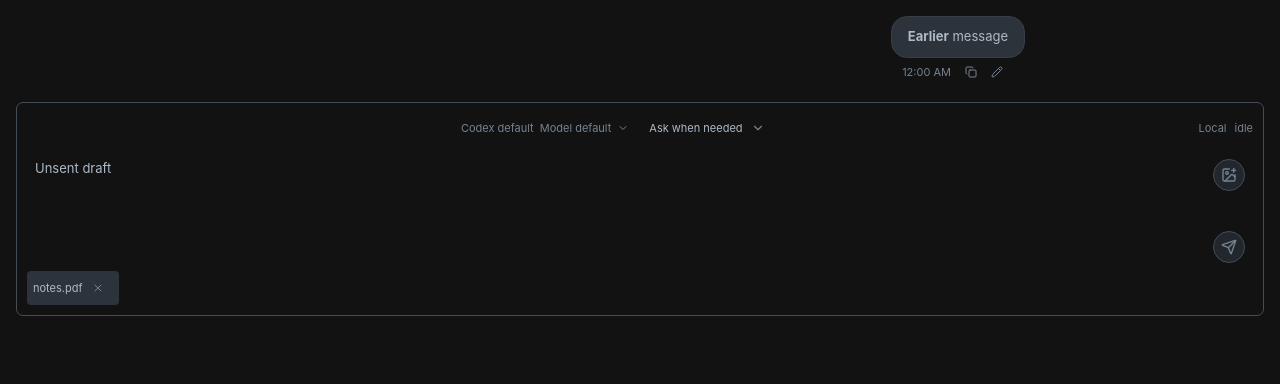
Scenario: preserves the visible message and attachments if sending fails
Click the button named "Send": (1229, 246) [1213,230,1245,262]
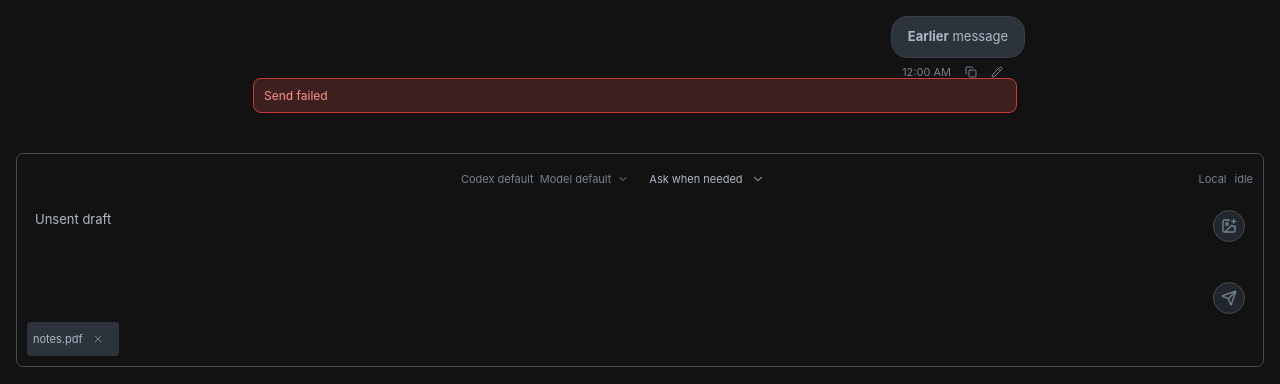
Expected: the field labelled "Unsent draft" is shown, [35,210,111,226]
Expected: the message "Send failed" is shown, [253,78,1017,112]
